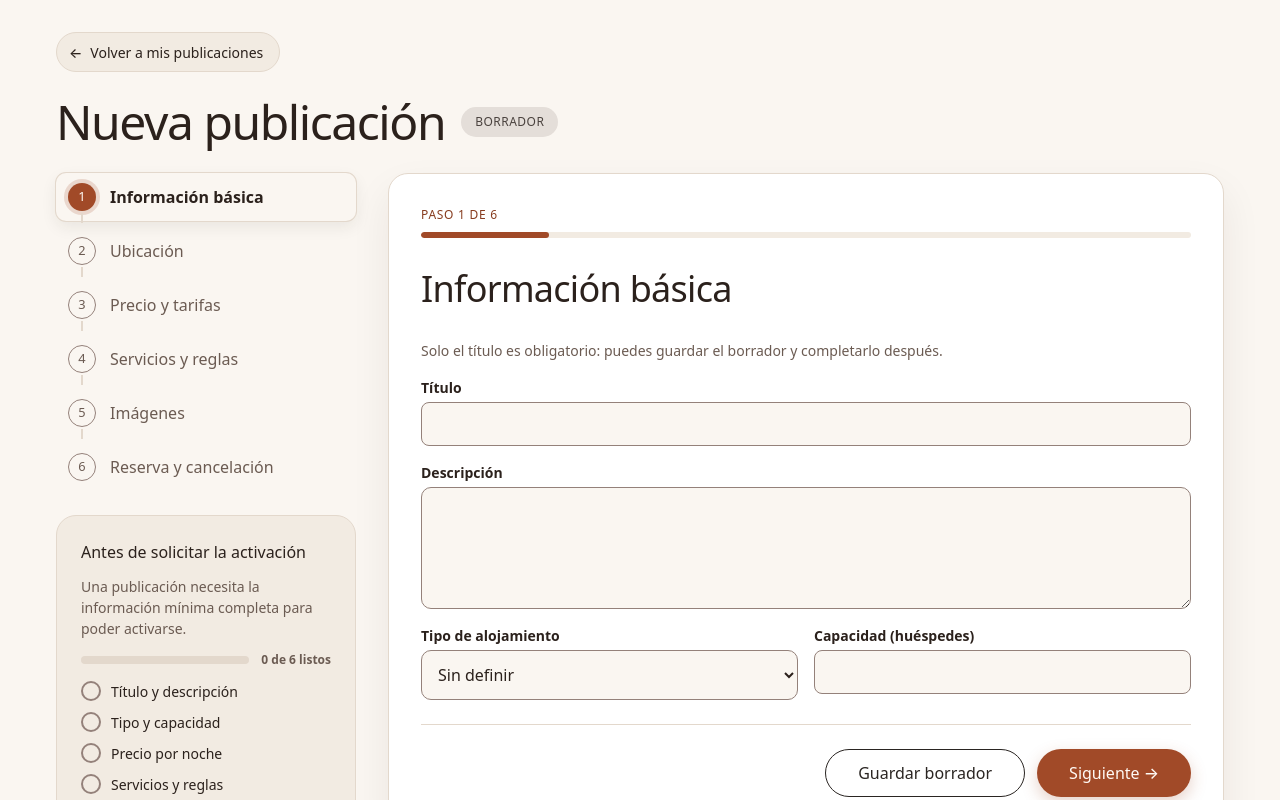
Test: PublicacionFormPage › muestra junto a su campo los errores que devuelve la API y lleva al paso de ese campo
This screenshot has width=1280, height=800.
Type "Casa" into the field labelled "Título". click: (806, 424)
box: [421,402,1191,446]
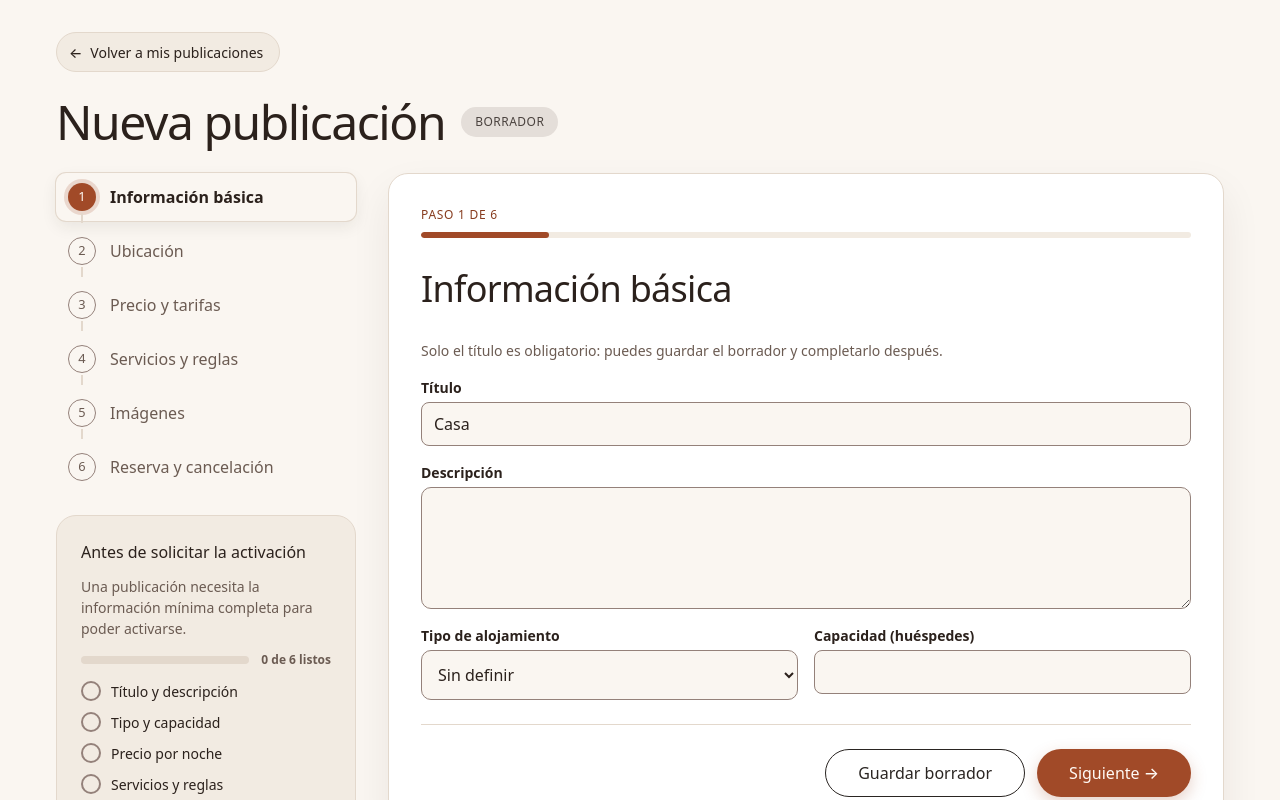
Click the button "Guardar borrador". click: (925, 773)
box: [825,749,1025,797]
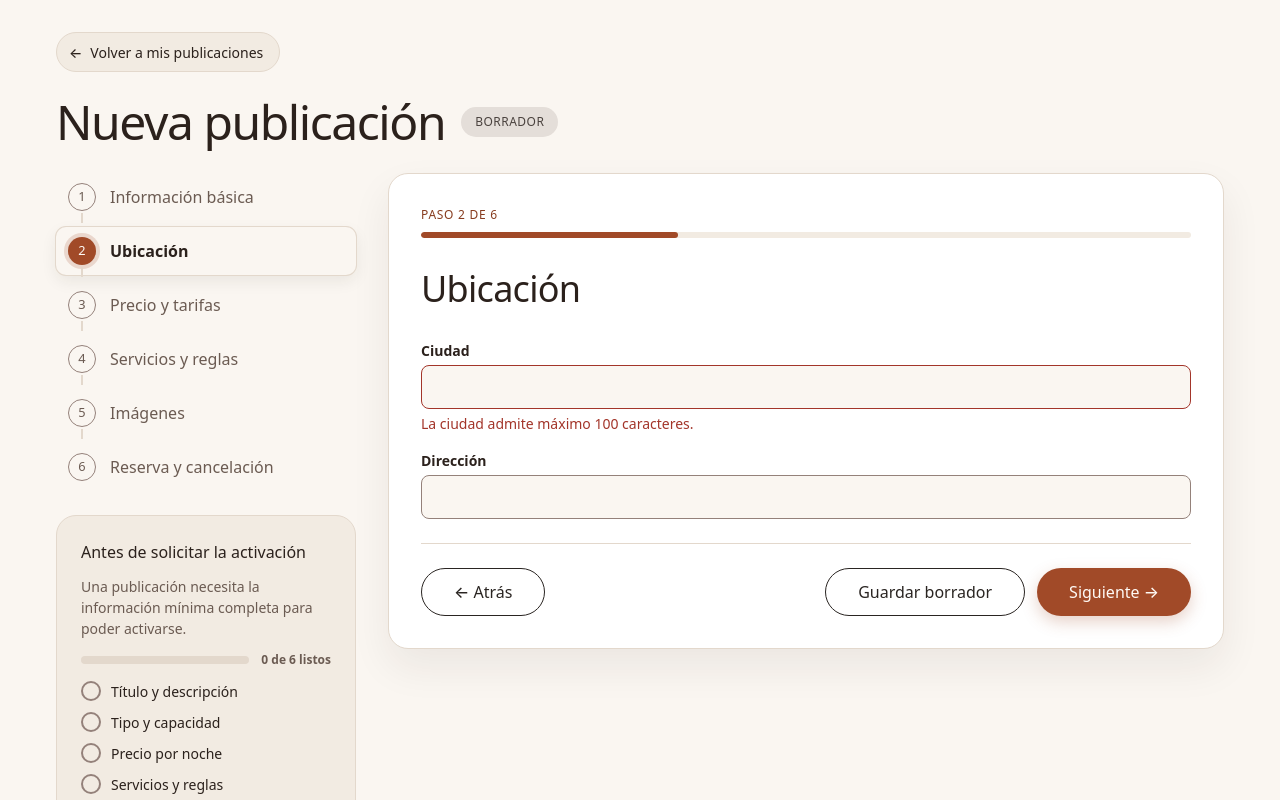
Now the text "PASO 2 DE 6" is shown, box [421,206,498,223]
Now the text "La ciudad admite máximo 100 caracteres." is shown, box [421,414,694,433]
